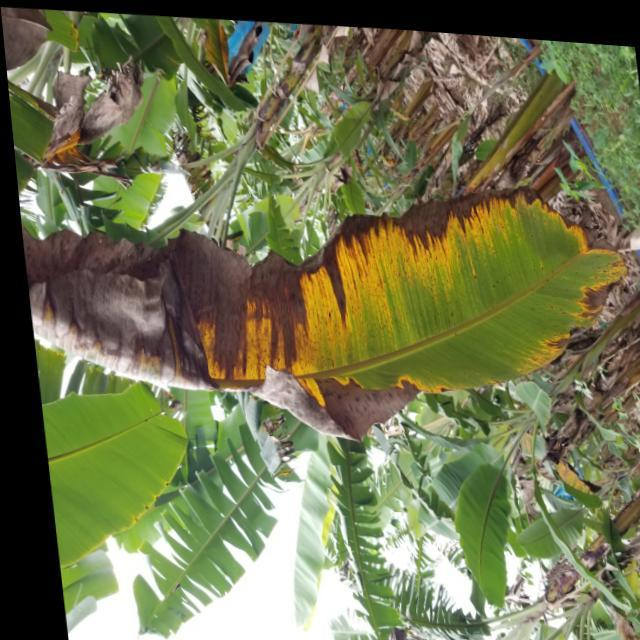Early_rust: (15, 183, 640, 459), (40, 109, 111, 206), (180, 5, 245, 107)
